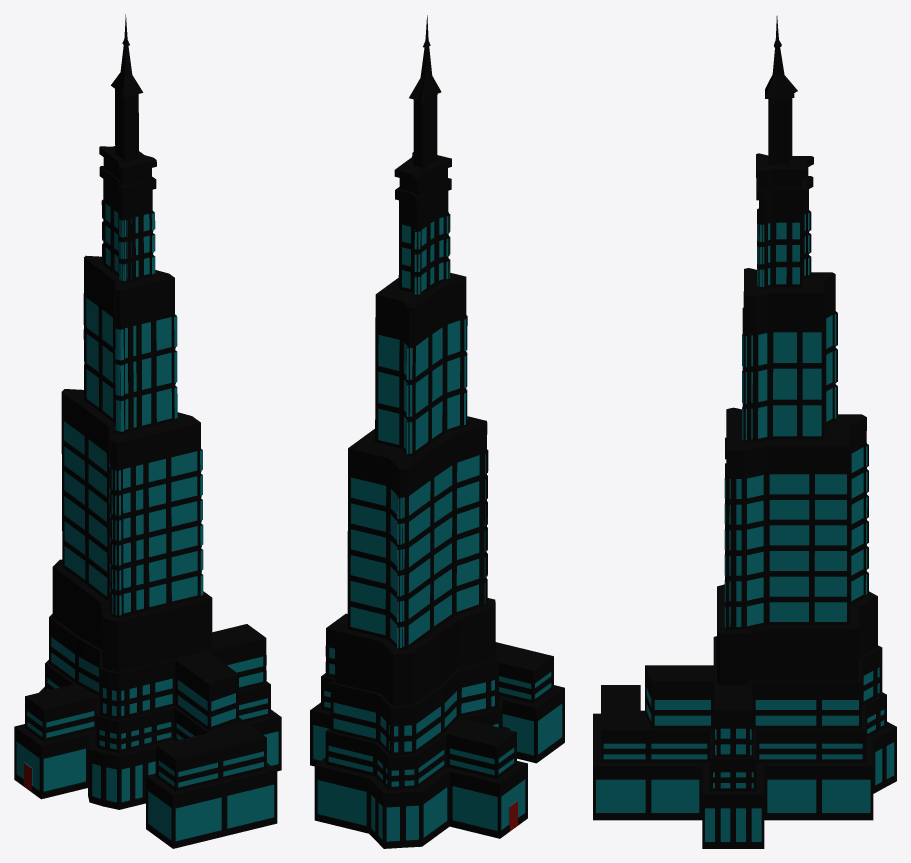
The model's file is SkyScraper.fbx.
The picture shows the model from 3 angles, left to right: view 1: azimuth 30°, elevation 25°; view 2: azimuth 150°, elevation 25°; view 3: azimuth 270°, elevation 25°; orthographic projection. The views are drawn at different scales.
Visible parts, largest first — view 1: Cube; view 2: Cube; view 3: Cube.
Boxes of the visible parts, x1,y1,x2,y2 form: Cube: [14, 14, 281, 848]; Cube: [310, 15, 564, 848]; Cube: [593, 15, 896, 848].
Size of the model in its own units: 5588 by 19282 by 6850.
